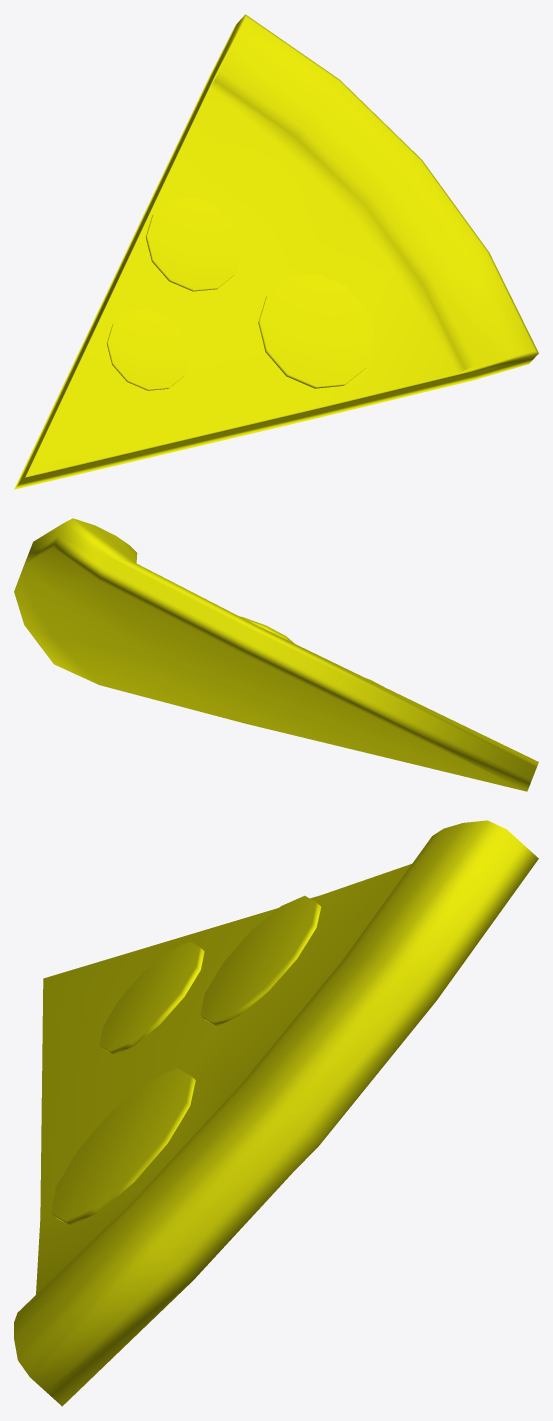
3 views of the same model, one above another, from view 1: azimuth 30°, elevation 25°; view 2: azimuth 150°, elevation 25°; view 3: azimuth 270°, elevation 25° (orthographic). The views are drawn at different scales.
Visible parts, largest first — view 1: PizzaSlice1; view 2: PizzaSlice1; view 3: PizzaSlice1.
Part boxes in pixels (left/top/right/bottom): PizzaSlice1: left=14, top=14, right=538, bottom=489; PizzaSlice1: left=14, top=518, right=538, bottom=791; PizzaSlice1: left=14, top=820, right=538, bottom=1406.
Bounding box in the file's own units: 0.0981 × 0.0545 × 0.0542.
1 material, 1 textured.
